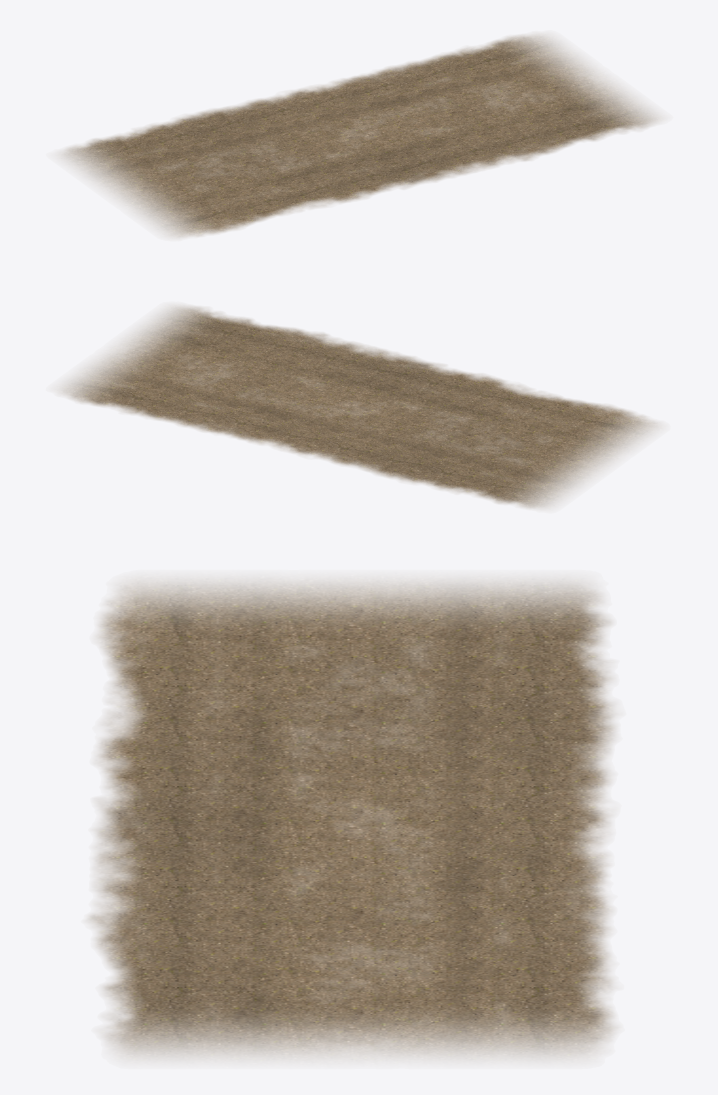
Rendered from road_line_main_main.glb.
The picture shows the model from 3 angles, top to bottom: view 1: azimuth 30°, elevation 25°; view 2: azimuth 150°, elevation 25°; view 3: azimuth 270°, elevation 25°; orthographic projection. The views are drawn at different scales.
Parts seen in each view (by area): view 1: road_line_main_main; view 2: road_line_main_main; view 3: road_line_main_main.
Part boxes in pixels (x1,y1,x2,y2): road_line_main_main: (61,34,660,237); road_line_main_main: (60,306,659,508); road_line_main_main: (88,580,615,1058).
Size of the model in its own units: 26 by 0 by 13.
Materials: 1 (1 with a texture image).
